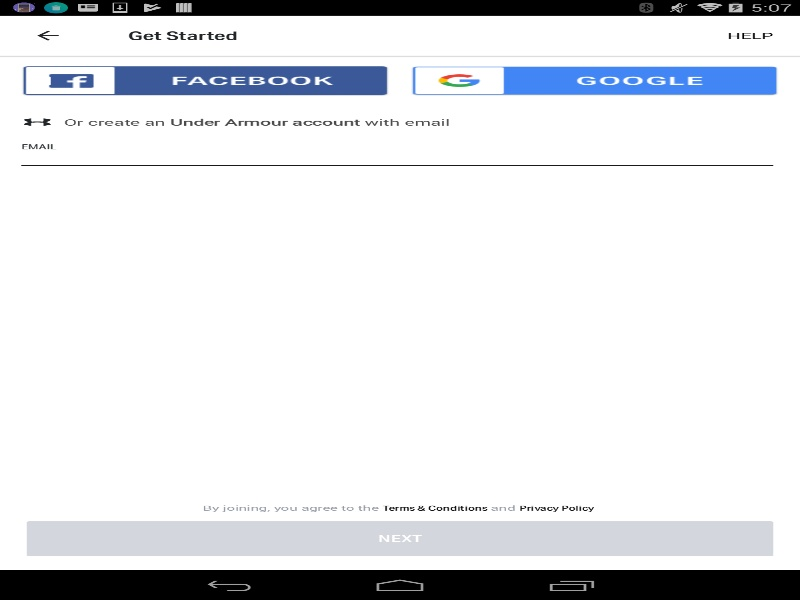Button: (21, 517, 778, 560), (21, 65, 389, 96), (410, 65, 778, 95), (10, 15, 85, 55)
Input: (16, 145, 778, 170)
